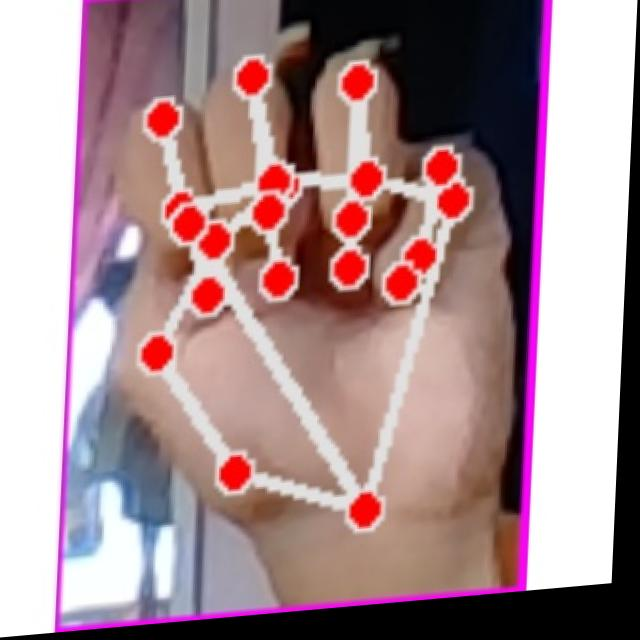M: (87, 49, 523, 574)
